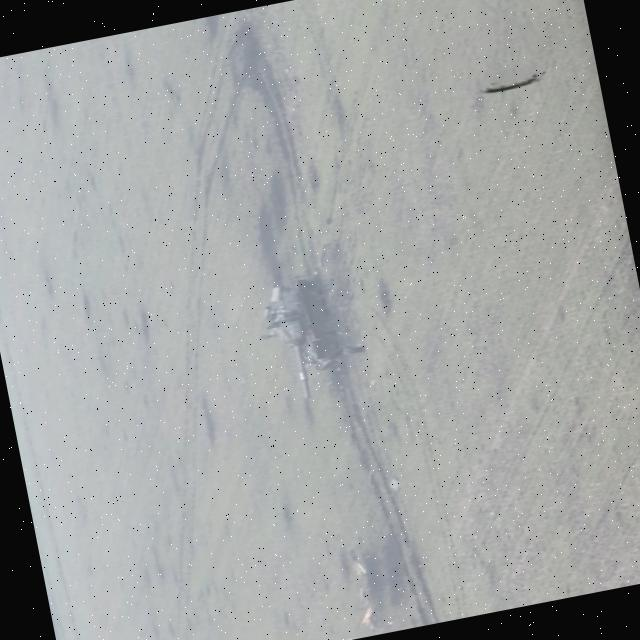MBT: (248, 271, 356, 409)
